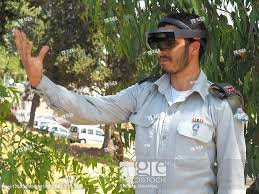hololens: (146, 26, 207, 54)
